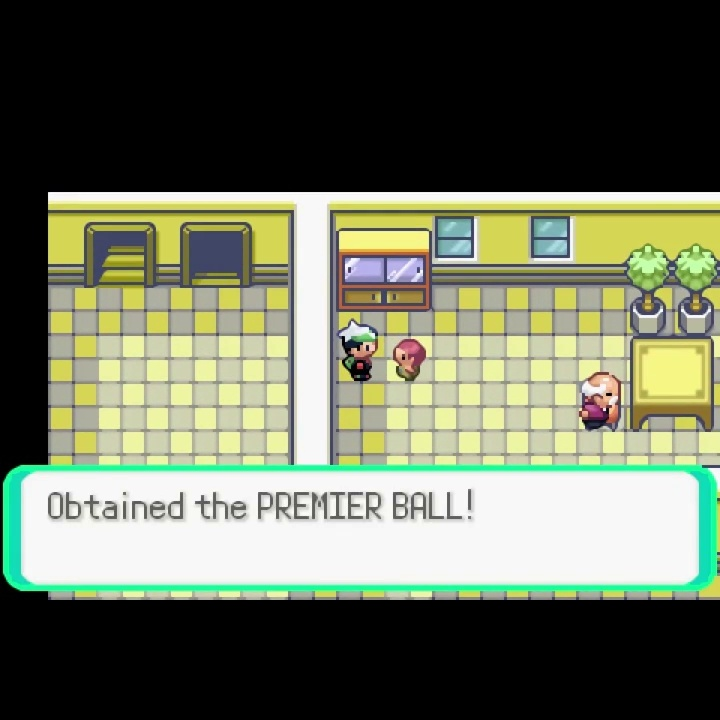agent: (336, 316, 381, 383)
npc: (574, 369, 622, 433), (390, 335, 430, 385)
